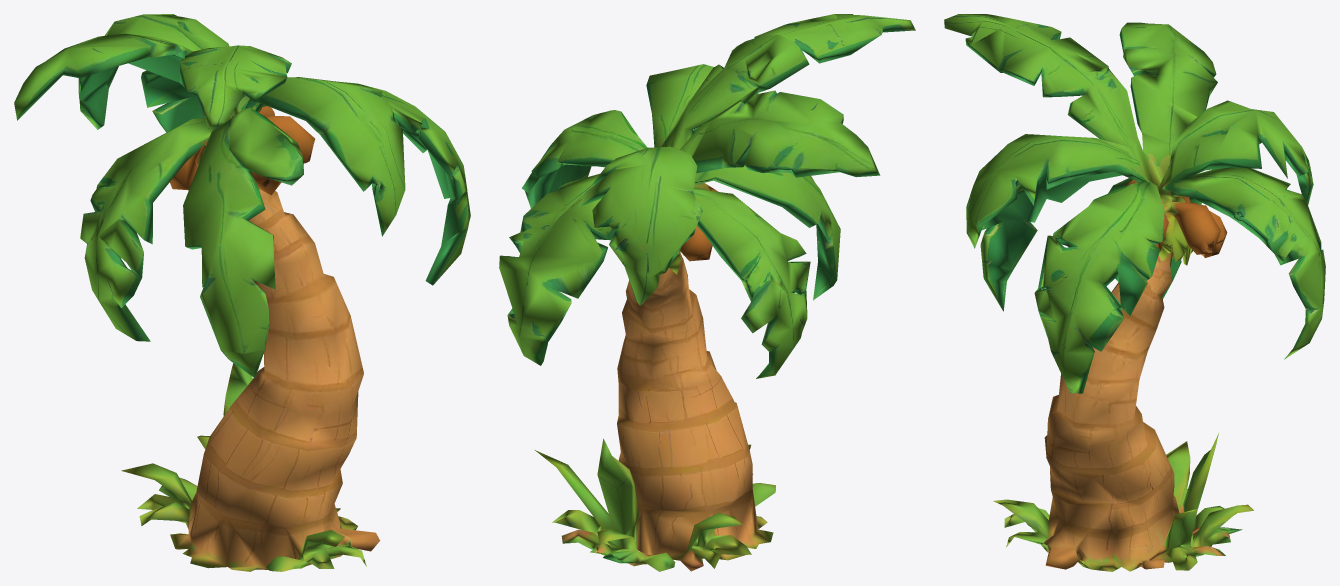
The model's file is palm-low.glb.
3 renders of one model, left to right at view 1: azimuth 30°, elevation 25°; view 2: azimuth 150°, elevation 25°; view 3: azimuth 270°, elevation 25°, orthographic. The views are drawn at different scales.
Visible parts, largest first — view 1: tripo_node_73a3431b-034f-4289-b443-783022ed0d8d; view 2: tripo_node_73a3431b-034f-4289-b443-783022ed0d8d; view 3: tripo_node_73a3431b-034f-4289-b443-783022ed0d8d.
Part boxes in pixels (left/top/right/bottom): tripo_node_73a3431b-034f-4289-b443-783022ed0d8d: left=14, top=14, right=470, bottom=571; tripo_node_73a3431b-034f-4289-b443-783022ed0d8d: left=499, top=14, right=915, bottom=571; tripo_node_73a3431b-034f-4289-b443-783022ed0d8d: left=944, top=14, right=1325, bottom=571.
Bounding box in the file's own units: 0.7872 × 0.9967 × 0.7336.
1 material, 1 textured.
